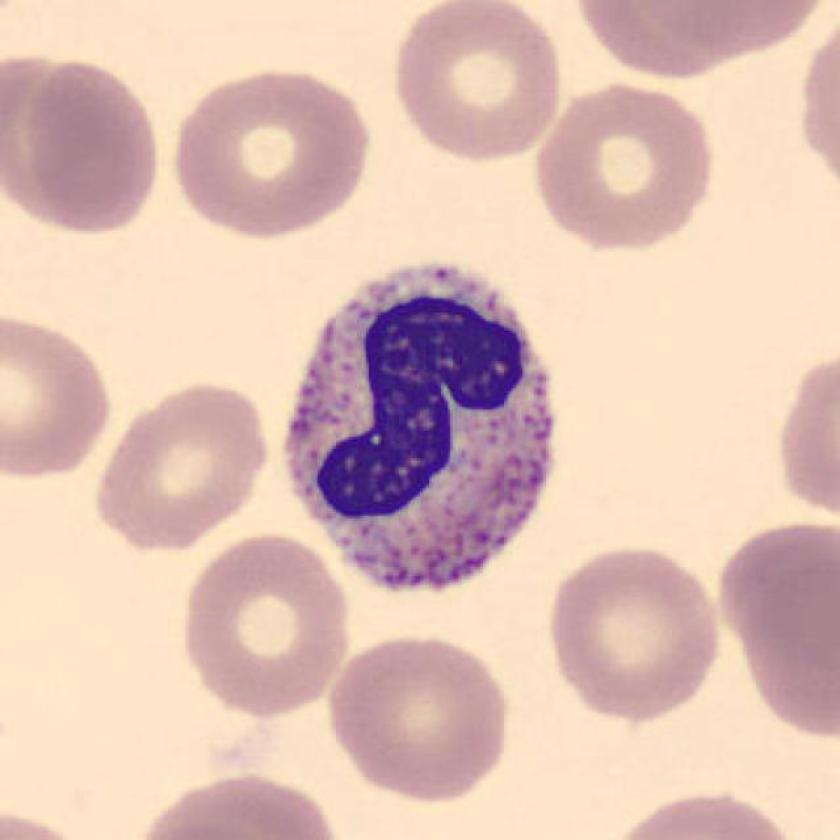neutrophil: (285, 262, 556, 590)
